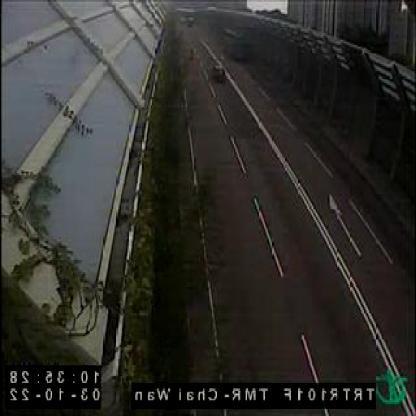Car: (212, 62, 226, 83)
